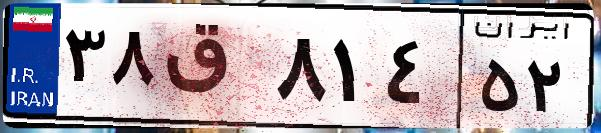1: (330, 28, 385, 110)
2: (525, 38, 570, 115)
3: (57, 26, 110, 100)
4: (385, 28, 445, 110)
5: (475, 38, 525, 113)
8: (270, 28, 330, 110), (110, 28, 158, 98)
ق: (158, 20, 270, 120)
